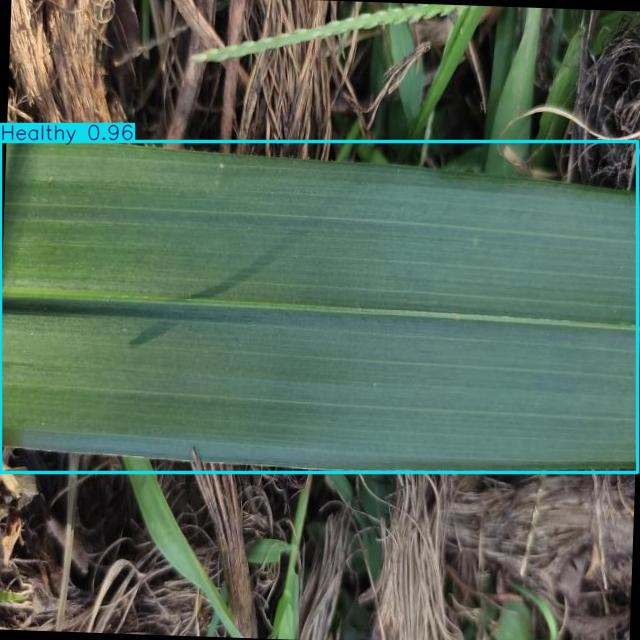Healthy: (1, 142, 638, 473)
